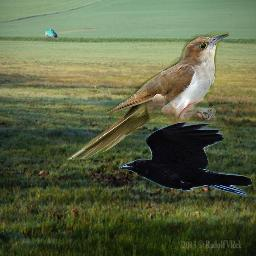Crow: (119, 122, 253, 197)
Cuckoo: (66, 31, 229, 160)
